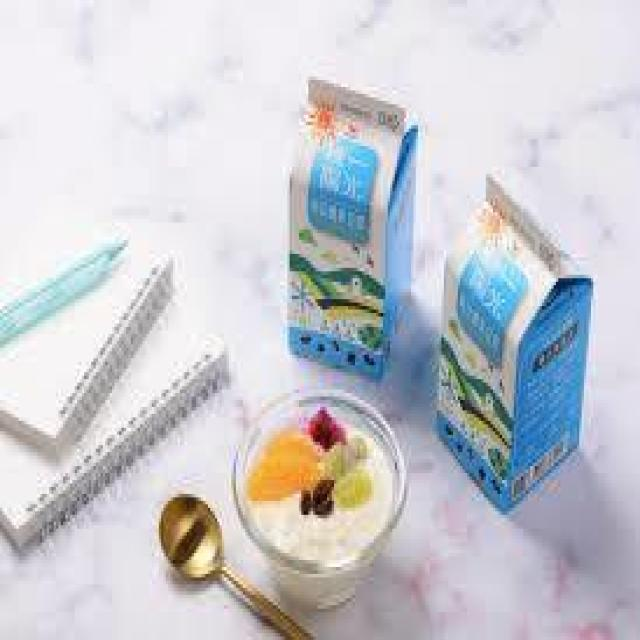TongYi_UnsweetenedBlackSoyMilk: (436, 160, 591, 502), (285, 68, 420, 380)
